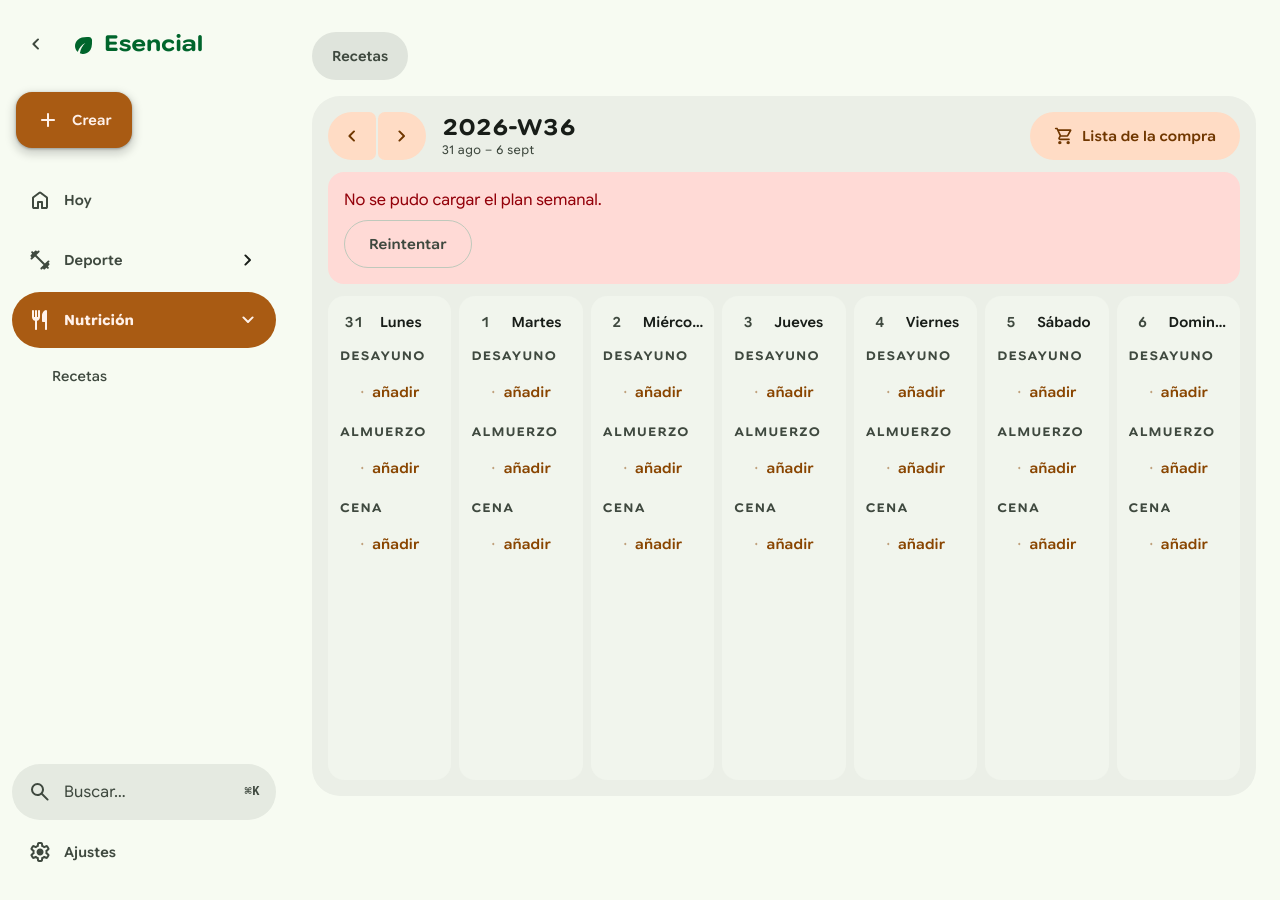
Test case: rejilla 7×3 › fallo de API → tarjeta de error con reintento; reintentar carga la rejilla
Click the button "Reintentar" at (408, 244), box [344,220,472,268]
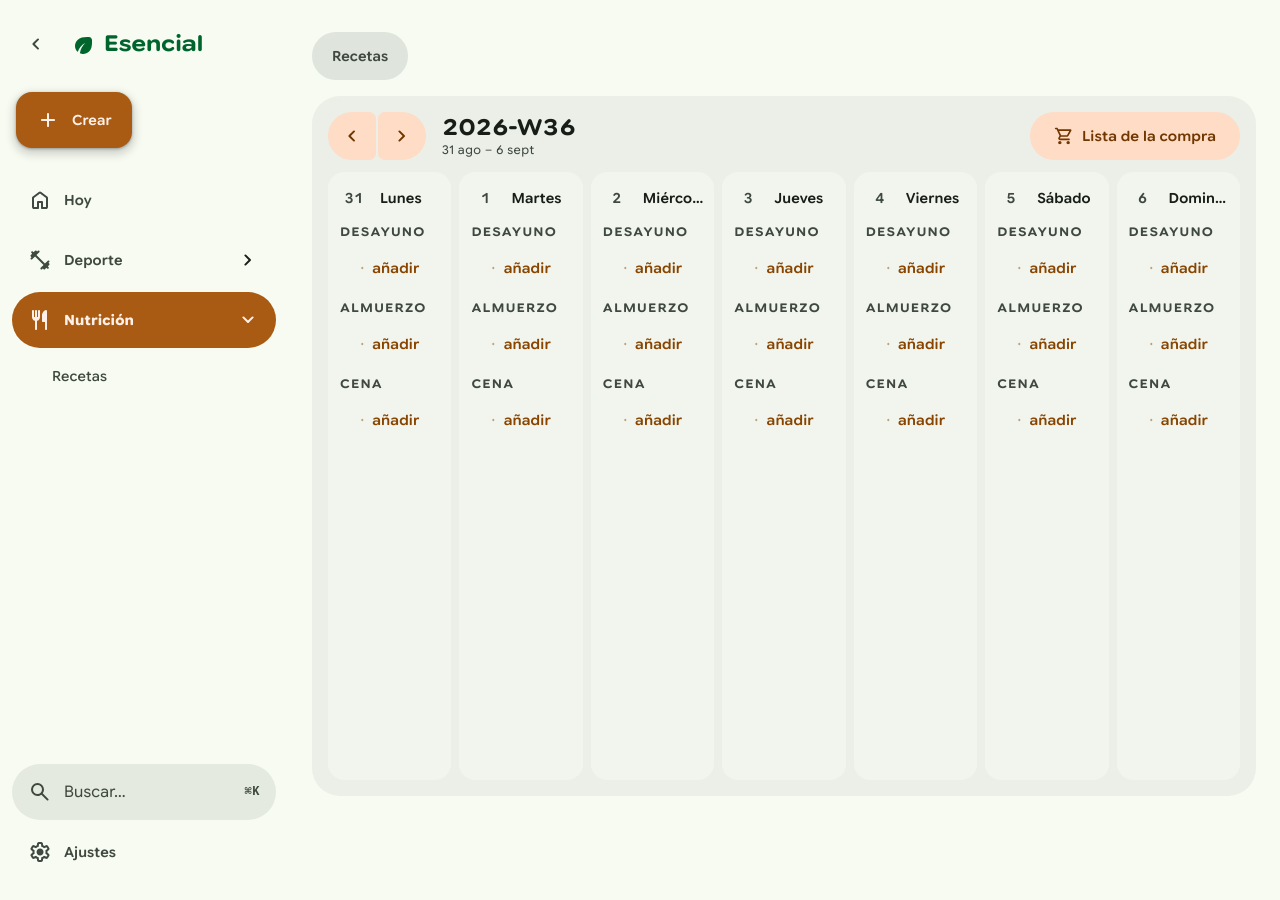
Now the number of buttons named "+ añadir" is 21
